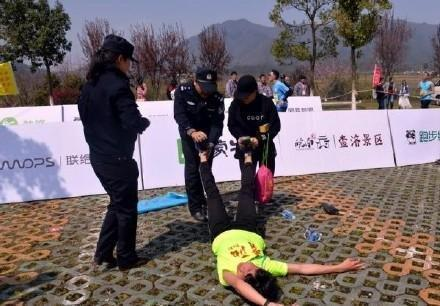Fall-Detected: (173, 141, 368, 299)
